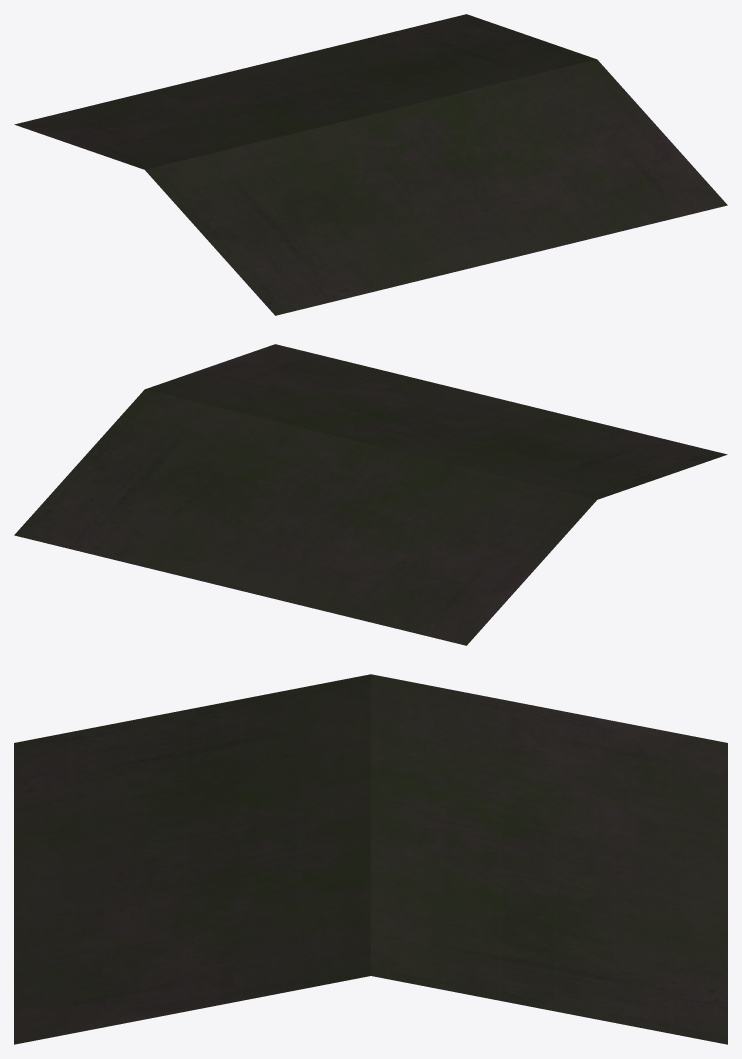
The model's file is shrine_roof_08.fbx.
3 views of the same model, one above another, from view 1: azimuth 30°, elevation 25°; view 2: azimuth 150°, elevation 25°; view 3: azimuth 270°, elevation 25° (orthographic). The views are drawn at different scales.
Parts seen in each view (by area): view 1: shrine_roof_09; view 2: shrine_roof_09; view 3: shrine_roof_09.
Boxes of the visible parts, <box> form: shrine_roof_09: <box>14,14,727,315</box>; shrine_roof_09: <box>14,344,727,645</box>; shrine_roof_09: <box>14,674,727,1044</box>.
Bounding box in the file's own units: 330 × 35.07 × 330.
Materials: 1 (1 with a texture image).
